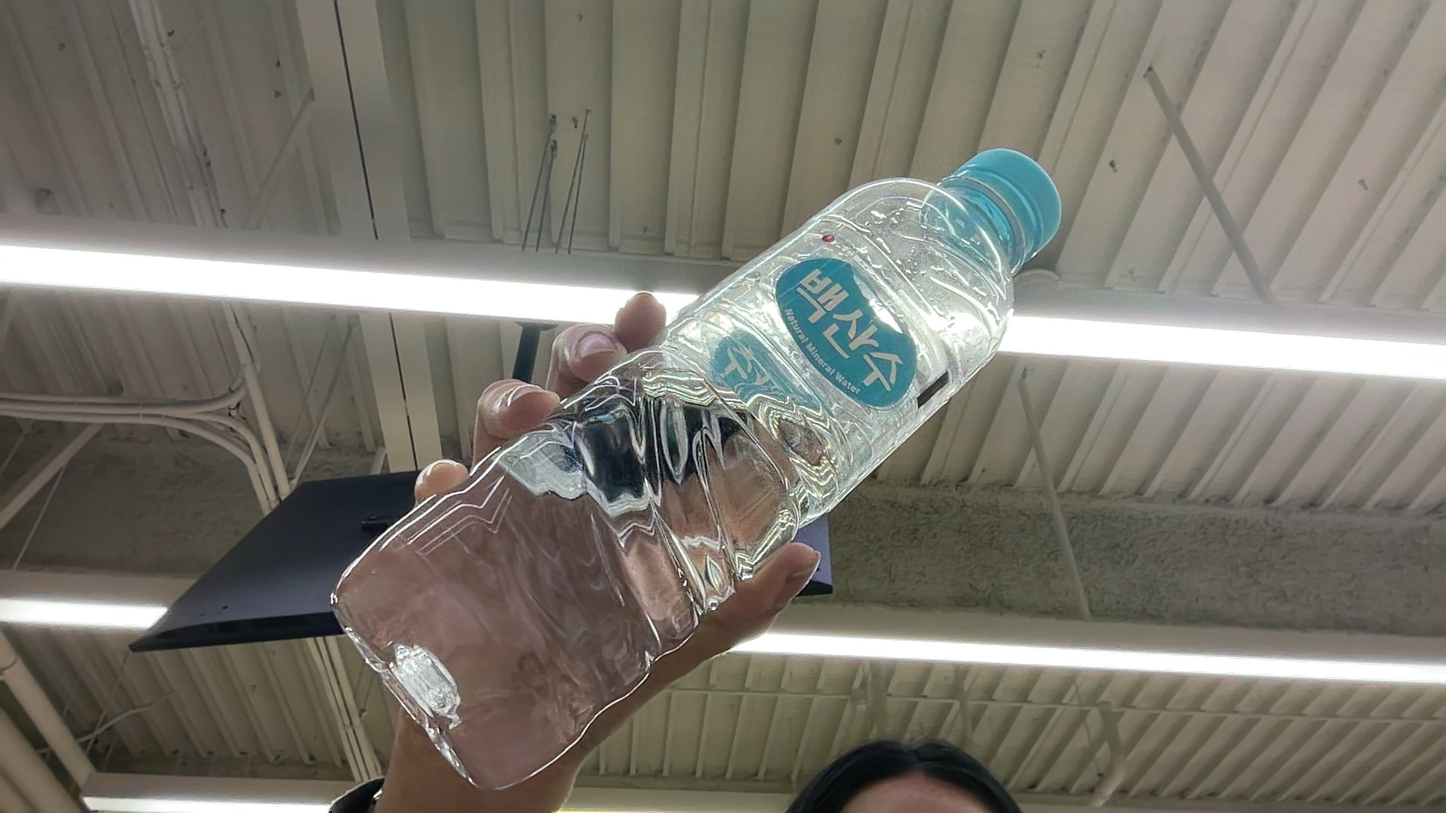Plastic: (304, 126, 1117, 722)
